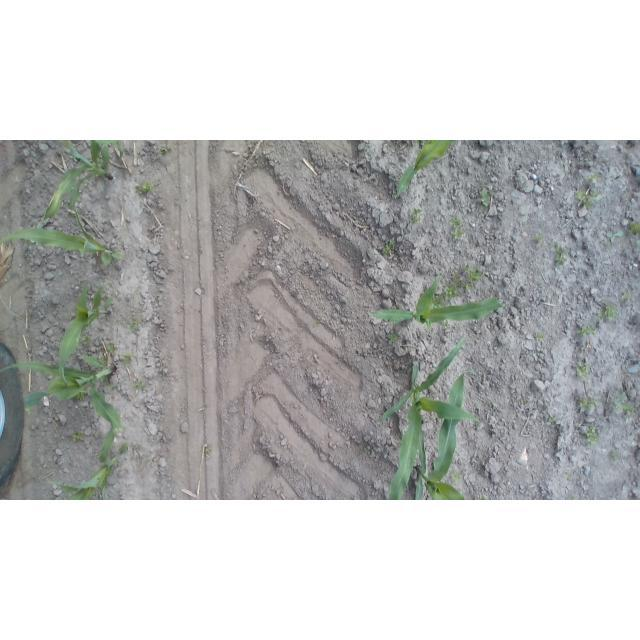Maize: (376, 332, 481, 500), (15, 350, 128, 432), (409, 370, 476, 500), (367, 269, 506, 329), (1, 204, 126, 267), (40, 140, 128, 221), (56, 412, 134, 501), (54, 281, 120, 384), (395, 141, 453, 200)
Weeds: (441, 266, 483, 300), (609, 392, 636, 417), (594, 301, 620, 323), (574, 189, 597, 211), (447, 215, 465, 241), (574, 393, 599, 411), (553, 244, 572, 266), (574, 360, 593, 381), (574, 322, 598, 338), (603, 225, 623, 244), (585, 425, 600, 448), (379, 237, 397, 256), (475, 188, 492, 207), (126, 316, 146, 332), (408, 206, 425, 223), (136, 180, 156, 194), (70, 428, 86, 445), (132, 378, 150, 392), (627, 218, 640, 236), (430, 294, 446, 307), (547, 412, 558, 430), (586, 172, 600, 186), (472, 490, 491, 500), (120, 353, 135, 365), (80, 333, 93, 346), (534, 330, 547, 343), (532, 231, 544, 245), (449, 472, 463, 484), (106, 342, 119, 354), (608, 450, 620, 463), (442, 320, 454, 333), (156, 145, 172, 154), (618, 291, 632, 301), (564, 472, 576, 483), (365, 444, 376, 456), (386, 333, 399, 343), (76, 389, 86, 401), (204, 442, 213, 455), (570, 492, 581, 500)
